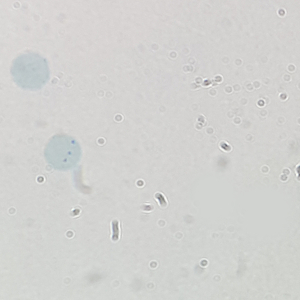punctate reticulocyte: (9, 51, 52, 92), (43, 132, 84, 174)
